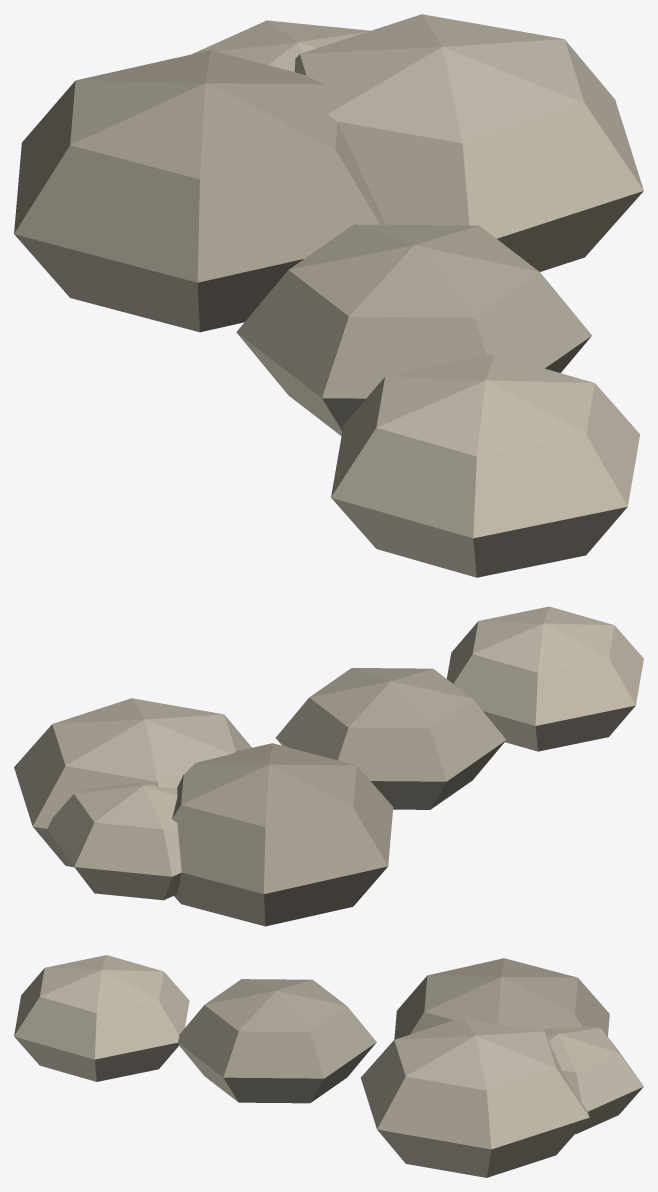
File: Pebbles.obj
3 views of the same model, one above another, from view 1: azimuth 30°, elevation 25°; view 2: azimuth 150°, elevation 25°; view 3: azimuth 270°, elevation 25° (orthographic). The views are drawn at different scales.
Parts seen in each view (by area): view 1: Pebbles; view 2: Pebbles; view 3: Pebbles.
Part boxes in pixels (x1,y1,x2,y2): Pebbles: (14,14,643,577); Pebbles: (14,606,643,926); Pebbles: (14,955,643,1177).
Bounding box in the file's own units: 0.5426 × 0.1816 × 0.8394.
Materials: 1 (1 with a texture image).
